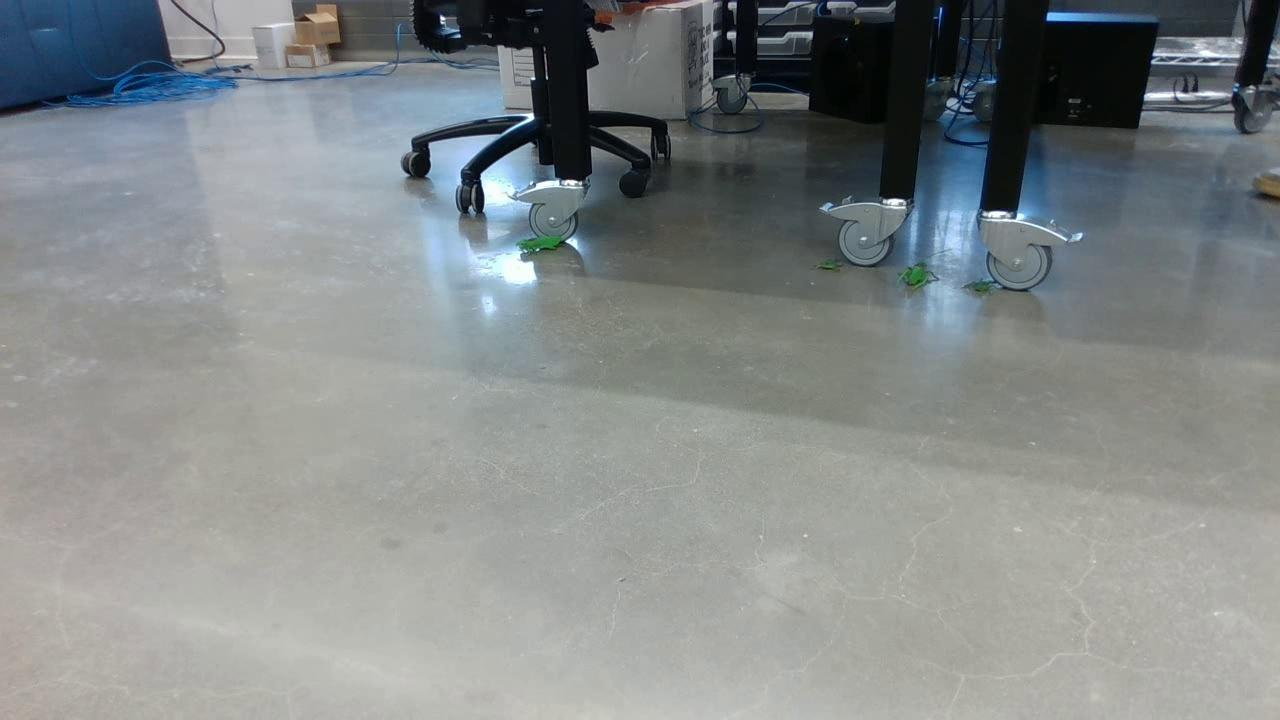grasshopper: (901, 259, 945, 295), (513, 229, 567, 255)
